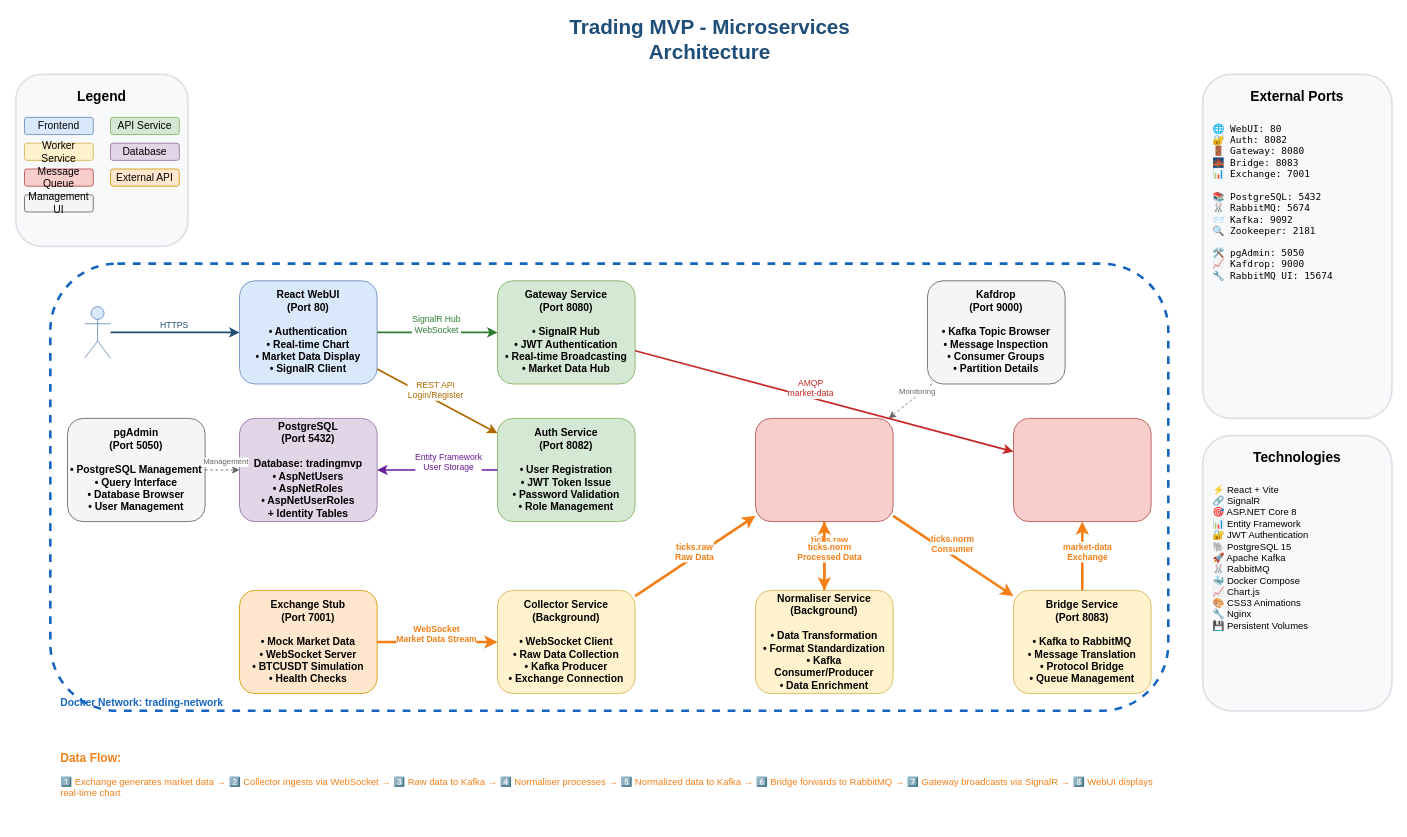
Image size: 1407x837. Some labels were removed from this diagram. The centre of each missing label's shape, as x and y in pixels:
"Apache Kafka (Port 9092) Topics: • ticks.raw • ticks.norm + Zookeeper (2181)" goes at (824,470).
"RabbitMQ (Port 5674) Exchange: • market-data Management UI: Port 15674" goes at (1082,470).
"👤 User" goes at (97,332).
